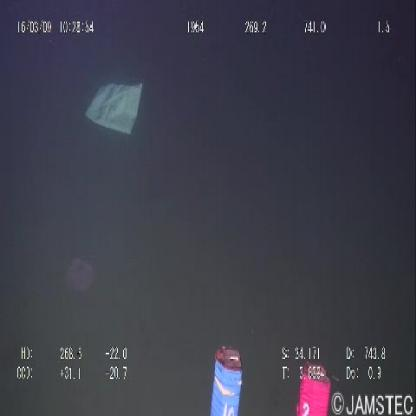Rác: (83, 77, 147, 142)
